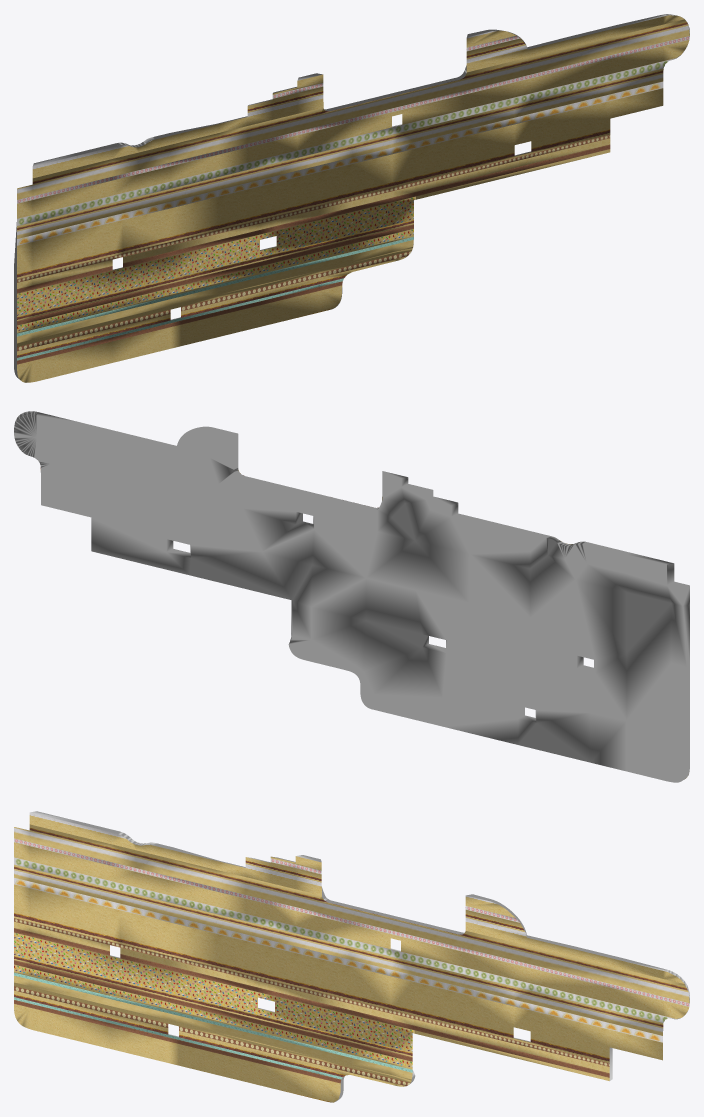
The model's file is stg210_drill_08.obj.
3 renders of one model, top to bottom at view 1: azimuth 30°, elevation 25°; view 2: azimuth 150°, elevation 25°; view 3: azimuth 330°, elevation 25°, orthographic.
Parts seen in each view (by area): view 1: polygon0, polygon1, polygon2, polygon3; view 2: polygon3; view 3: polygon0, polygon1, polygon2, polygon3.
Part boxes in pixels (box(x1,y1,x2,y2)): polygon0: box(17, 15, 689, 382); polygon1: box(17, 35, 689, 364); polygon2: box(17, 196, 415, 331); polygon3: box(14, 14, 689, 379); polygon3: box(14, 411, 689, 782); polygon0: box(14, 812, 689, 1102); polygon1: box(14, 838, 689, 1086); polygon2: box(14, 932, 414, 1068); polygon3: box(14, 811, 689, 1102).
Bounding box in the file's own units: 3239 × 1100 × 25.
